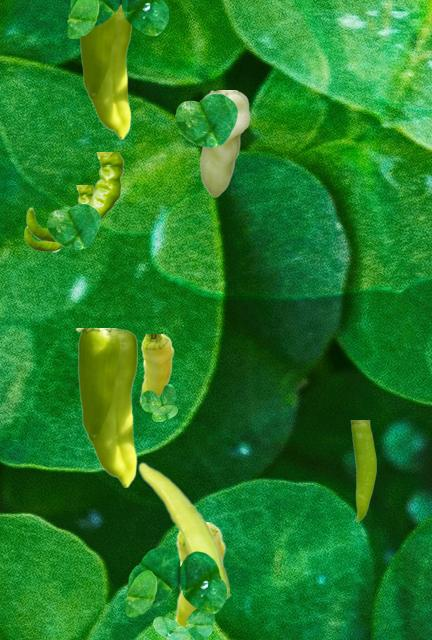green_chili: (138, 461, 228, 599), (75, 328, 136, 486), (26, 152, 123, 242), (79, 6, 130, 138), (173, 522, 225, 625), (199, 90, 249, 196), (24, 185, 93, 251), (350, 420, 375, 520), (139, 334, 173, 405)
